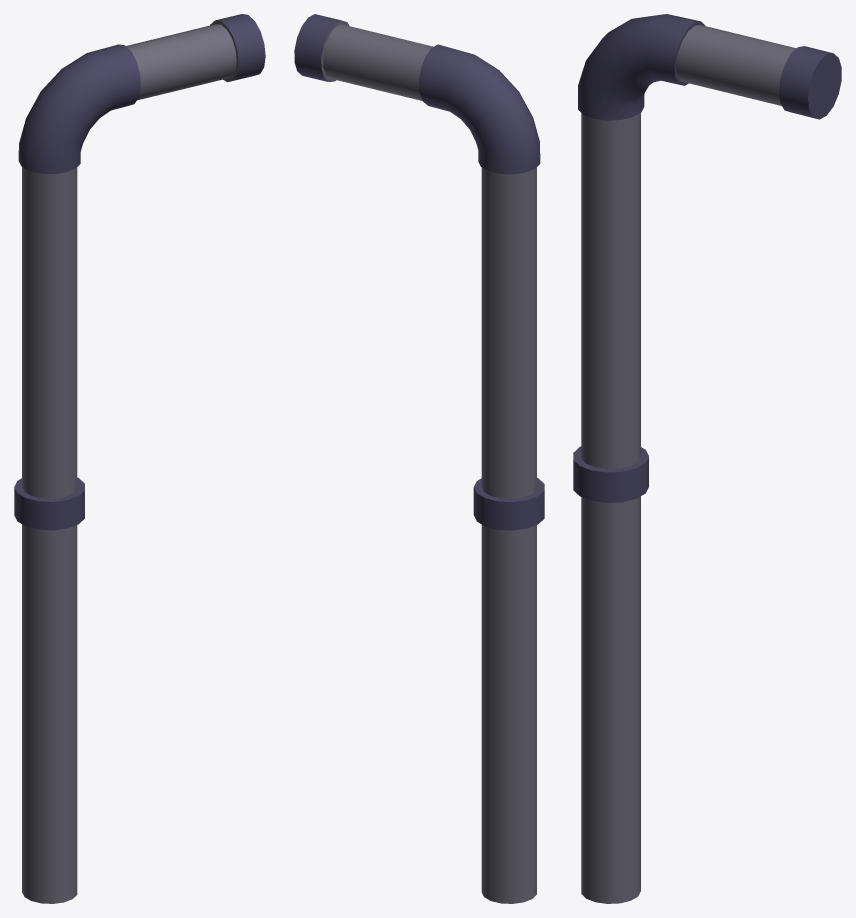
Rendered from MetalPipe.fbx.
3 views of the same model, side by side, from view 1: azimuth 30°, elevation 25°; view 2: azimuth 150°, elevation 25°; view 3: azimuth 330°, elevation 25° (orthographic). The views are drawn at different scales.
Visible parts, largest first — view 1: MetalPipe; view 2: MetalPipe; view 3: MetalPipe.
Boxes of the visible parts, bbox=[...] form: MetalPipe: bbox=[14, 14, 265, 903]; MetalPipe: bbox=[294, 14, 544, 903]; MetalPipe: bbox=[573, 14, 841, 903].
Size of the model in its own units: 36.48 by 125 by 9.69.
